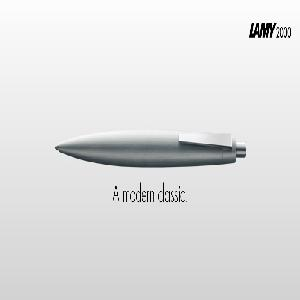pen: (45, 131, 252, 171)
